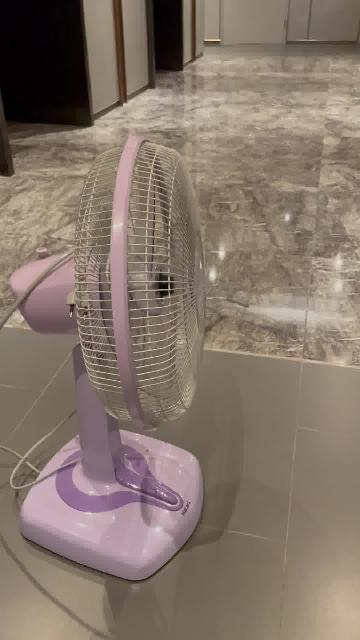Fan: (10, 136, 206, 584)
